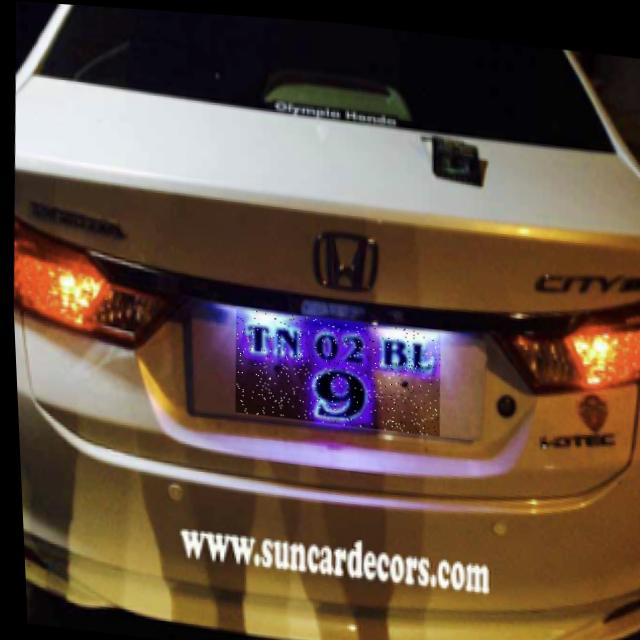license_plate: (228, 305, 441, 431)
